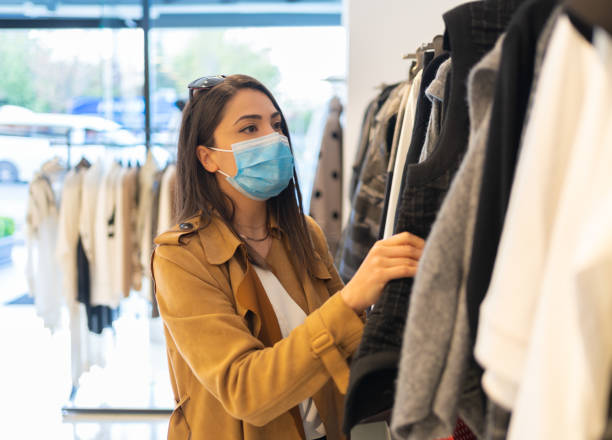with mask: (168, 75, 298, 200)
